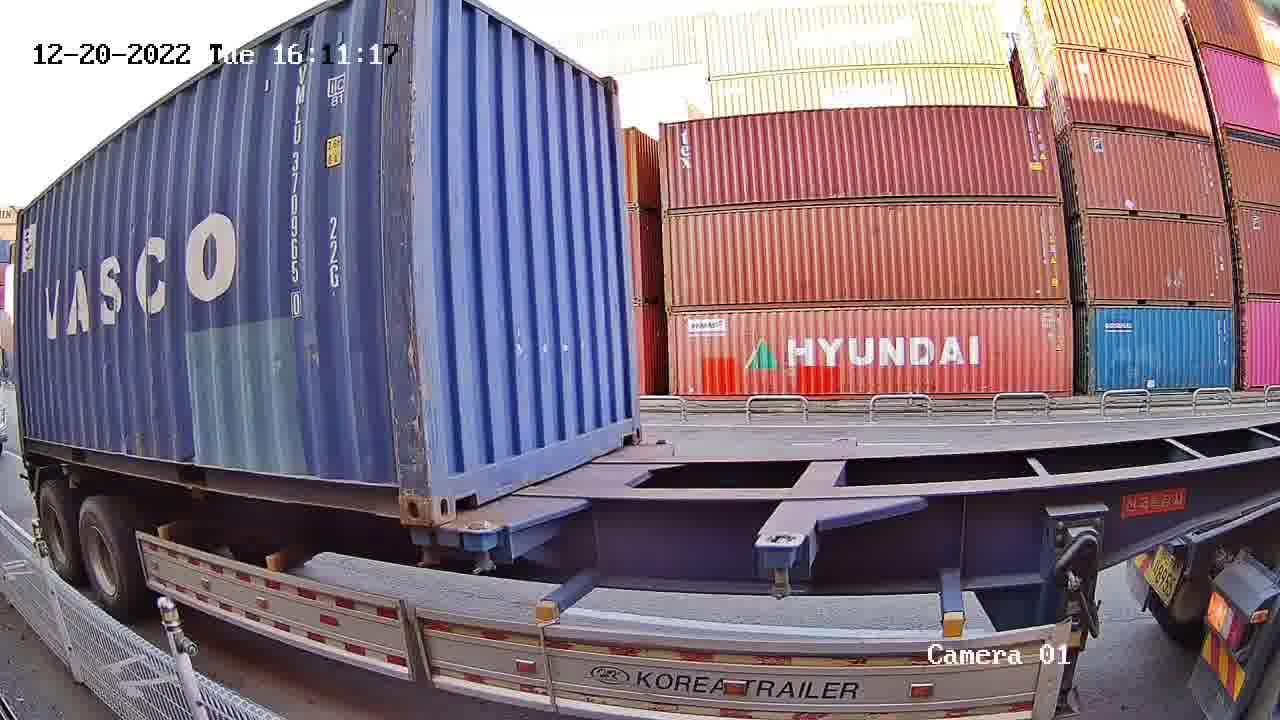Chassis: (466, 440, 673, 530)
Cone: (401, 523, 440, 571), (465, 523, 501, 575)
Hole_L: (427, 444, 491, 524)
Hole_R: (363, 454, 433, 523), (608, 400, 644, 445)
Tire: (79, 504, 128, 609), (40, 487, 75, 575)
